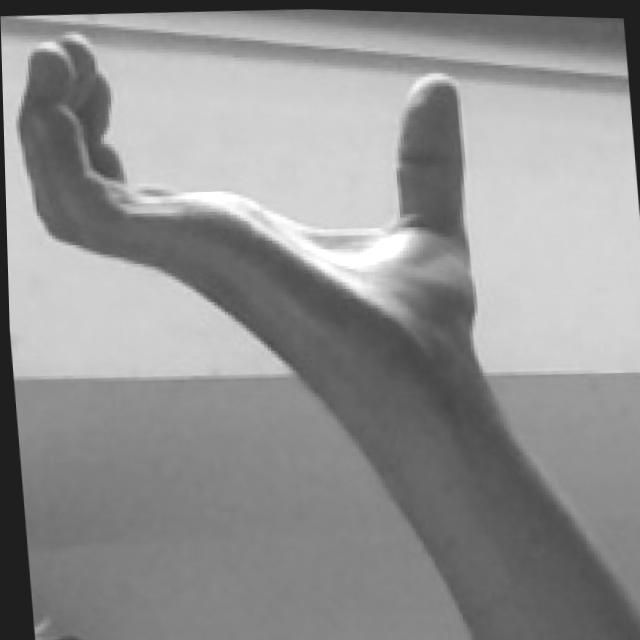space: (9, 4, 494, 392)
